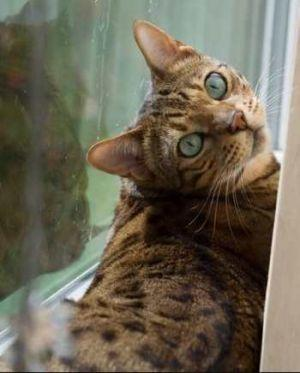bengal: (85, 15, 283, 204)
